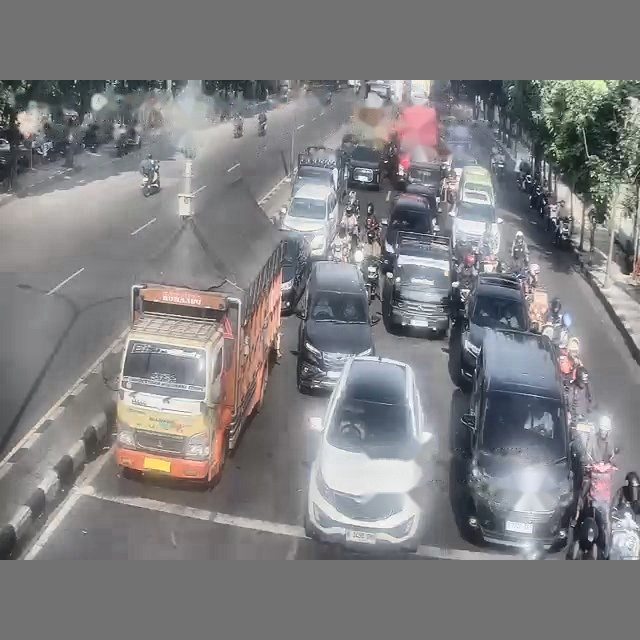Mobil: (304, 357, 431, 551), (462, 331, 574, 549), (296, 261, 378, 392), (450, 273, 529, 387), (382, 232, 450, 337), (381, 193, 438, 270), (281, 183, 339, 258), (448, 200, 502, 253), (291, 146, 345, 196), (281, 230, 310, 313), (404, 161, 445, 208), (347, 143, 383, 189)
Motor: (569, 460, 616, 559), (609, 505, 639, 559), (360, 255, 380, 303), (552, 216, 571, 248), (141, 167, 159, 196), (233, 119, 243, 137), (257, 120, 266, 136)
Truk: (115, 186, 282, 483)
